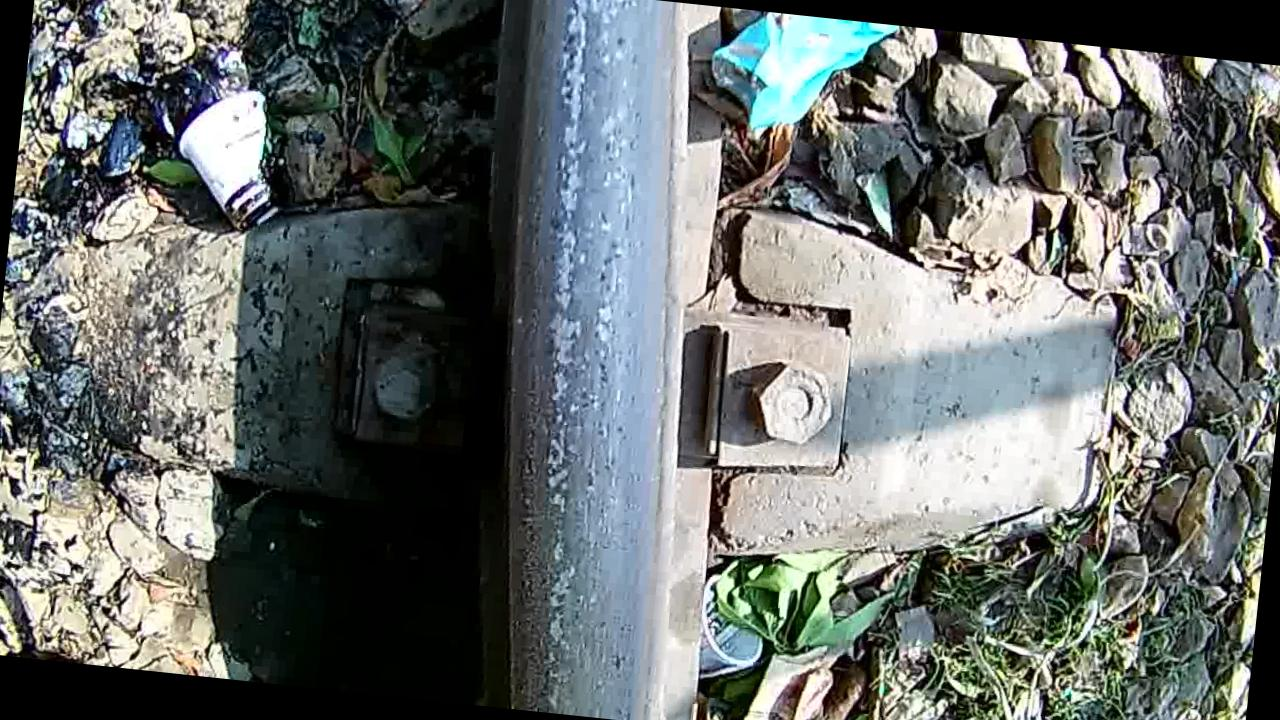clip_missing: (450, 0, 718, 720)
